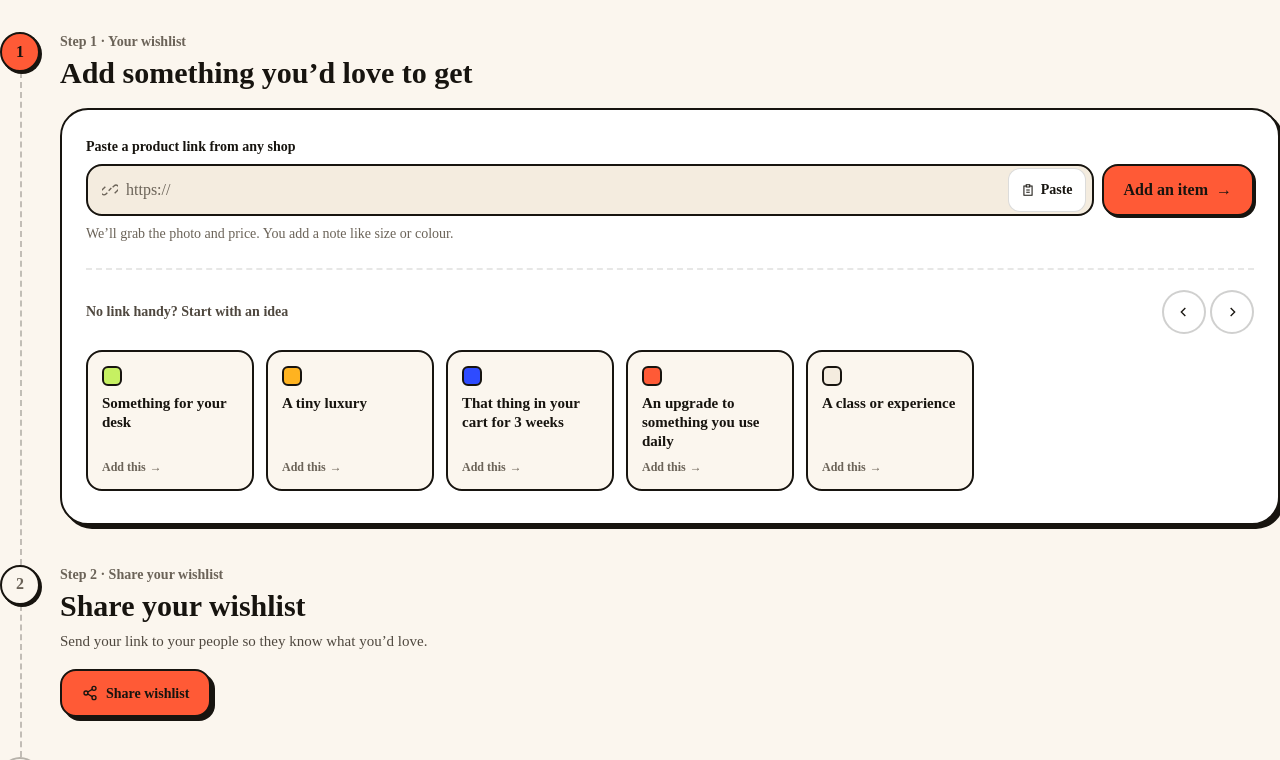
Test: marks the WhatsApp handoff complete without claiming message delivery
Click the button "Share wishlist": (136, 693) [60,669,211,717]
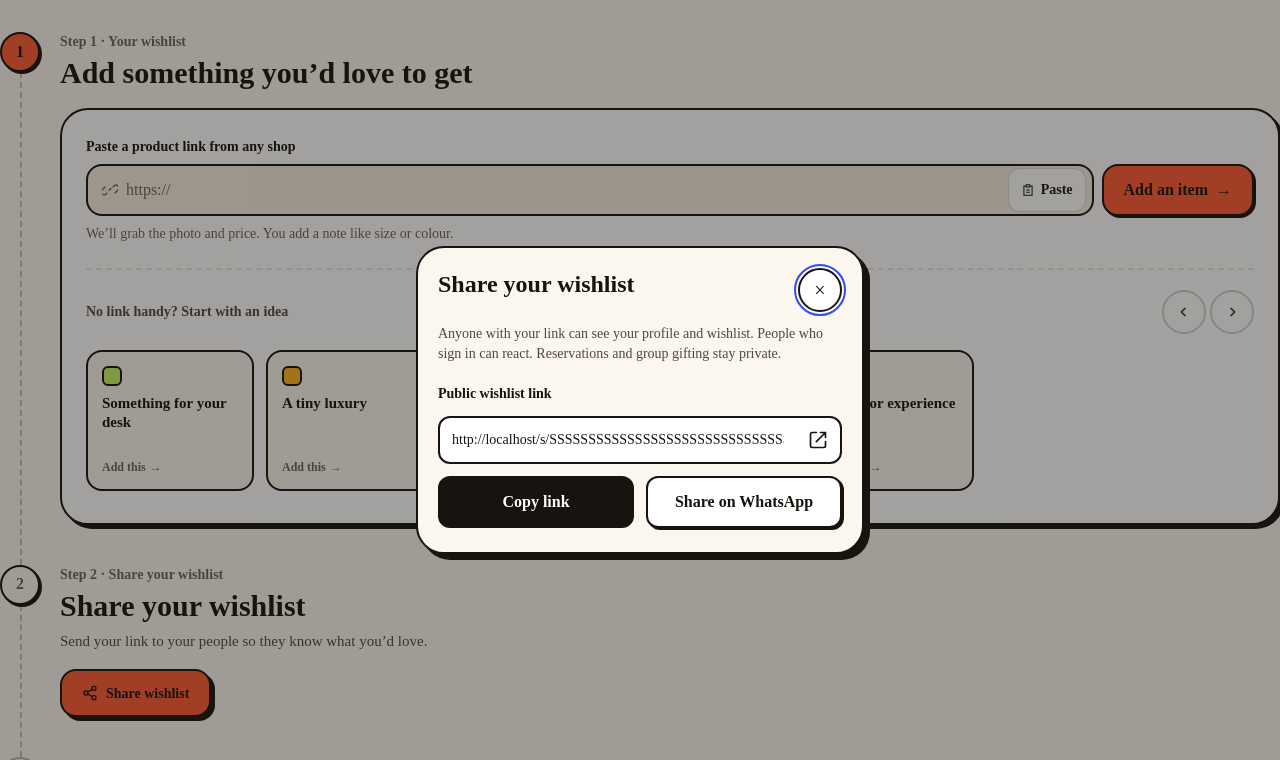
Click the link "Share on WhatsApp": (744, 502) [646,476,842,528]
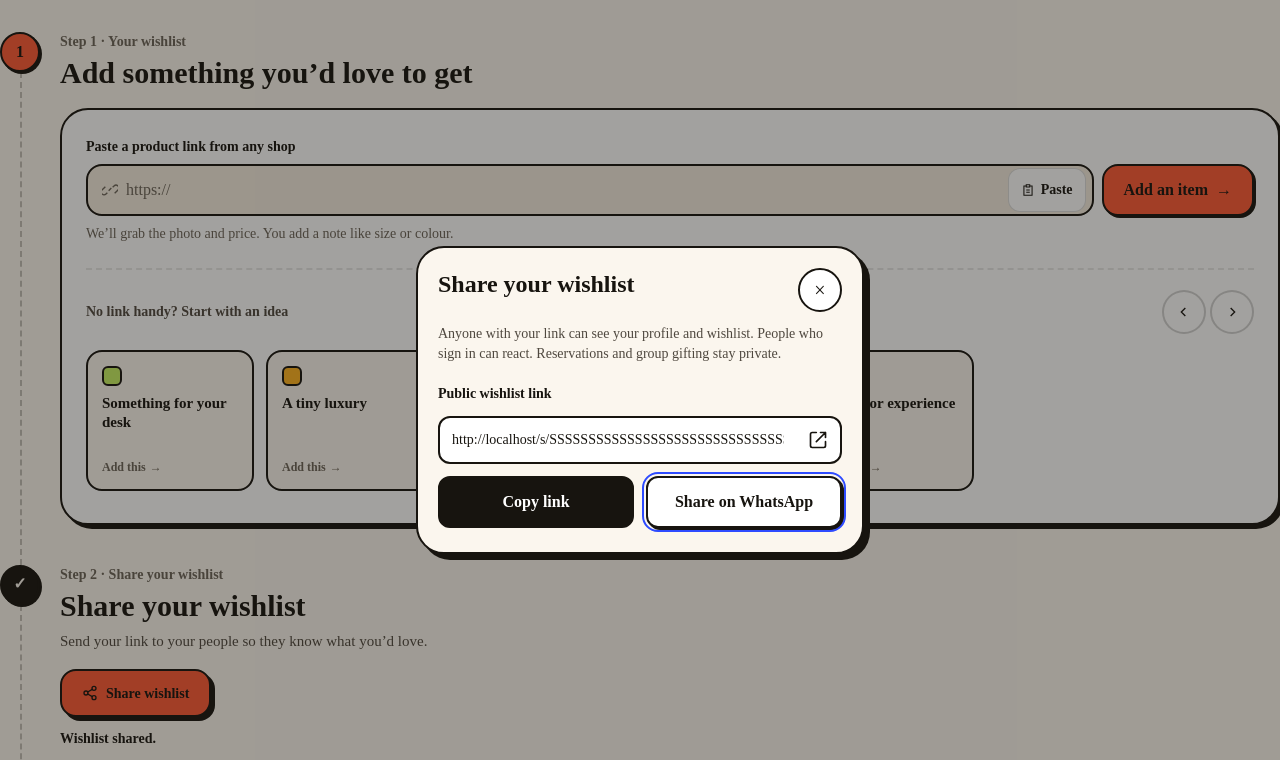
Now the text "Wishlist shared." is shown, box [60,731,156,746]
